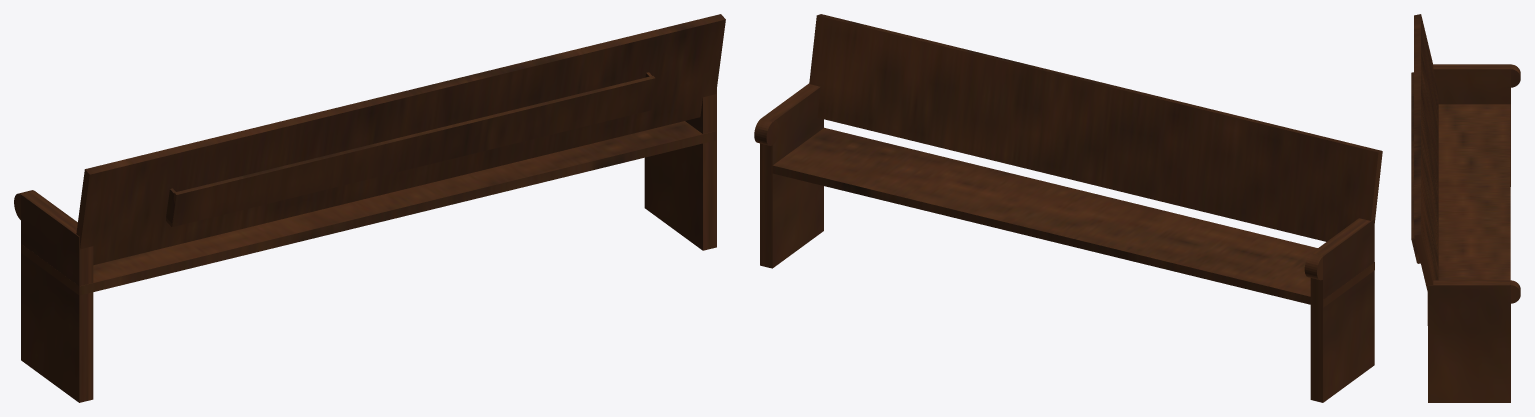
File: pew.obj
3 renders of one model, left to right at view 1: azimuth 30°, elevation 25°; view 2: azimuth 150°, elevation 25°; view 3: azimuth 270°, elevation 25°, orthographic. The views are drawn at different scales.
Parts seen in each view (by area): view 1: Cube.006_Cube.009; view 2: Cube.006_Cube.009; view 3: Cube.006_Cube.009.
Part boxes in pixels (x1,y1,x2,y2): Cube.006_Cube.009: (14, 14, 725, 402); Cube.006_Cube.009: (754, 14, 1382, 402); Cube.006_Cube.009: (1411, 14, 1520, 402).
Bounding box in the file's own units: 12.6 × 4.48 × 2.64.
1 material, 1 textured.
